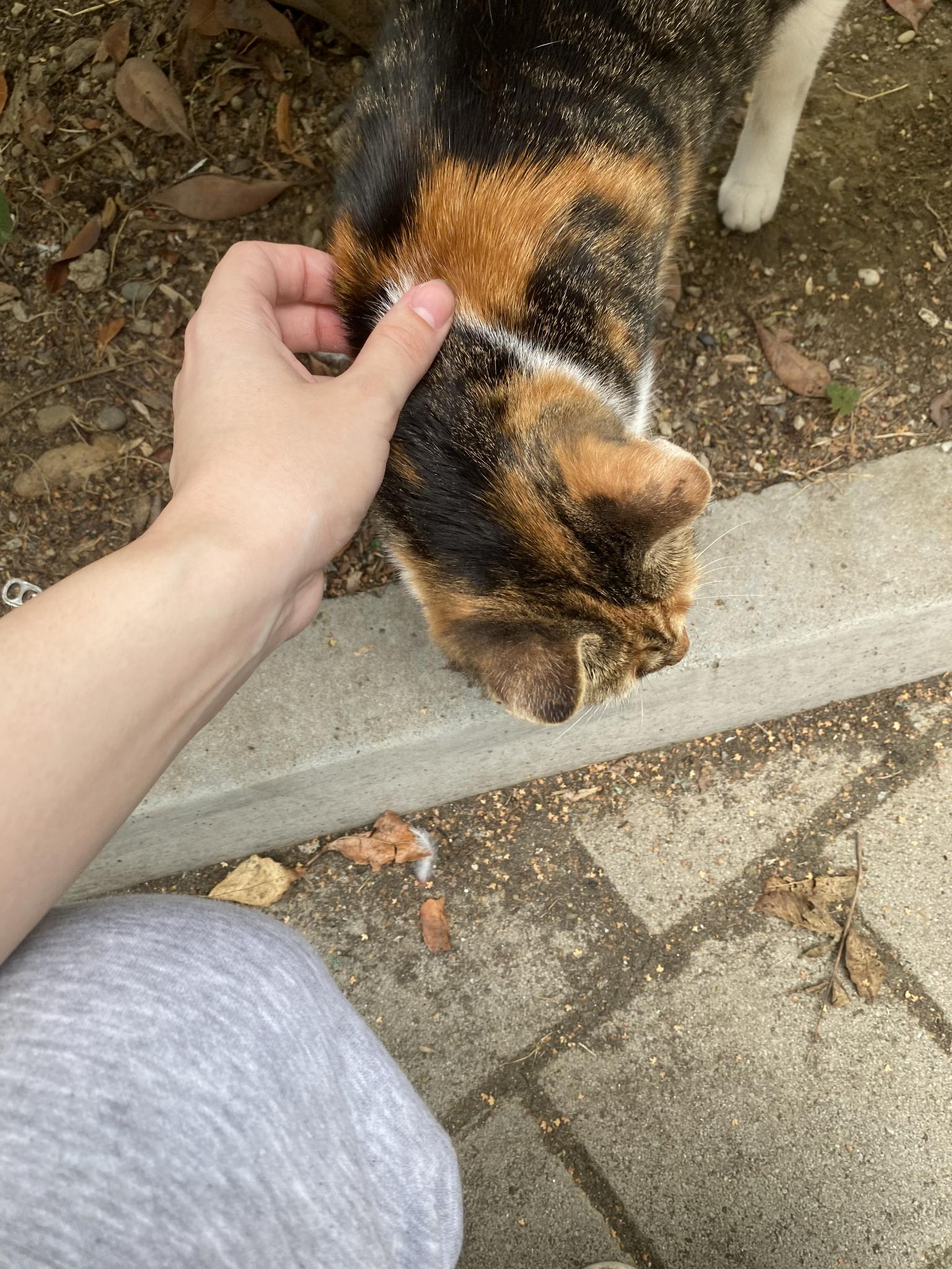macka: (326, 0, 841, 728), (339, 0, 847, 725)
